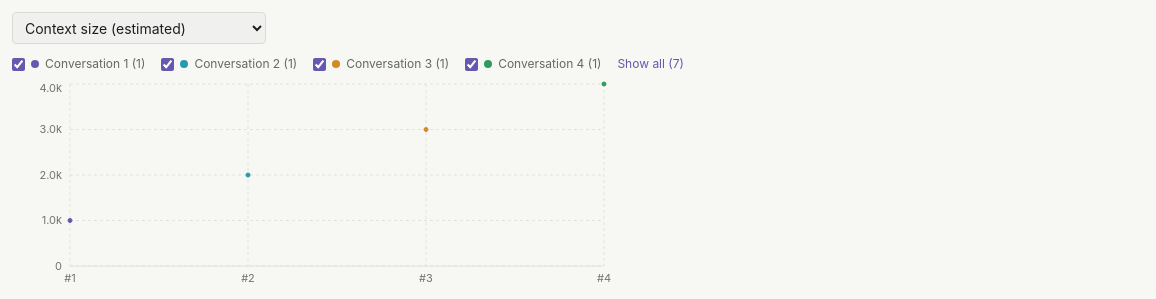
SessionTrendChart › legend of many conversations › keeps a drawn line in the legend after collapsing
This screenshot has width=1156, height=299.
Click the button "Show all (7)": (651, 64) [617,56,684,72]
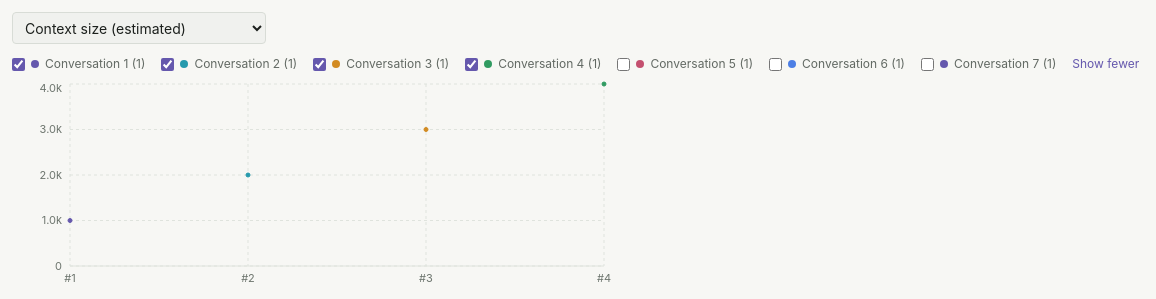
Click the checkbox labelled "Conversation 6 (1)": (776, 64) [769,58,782,70]
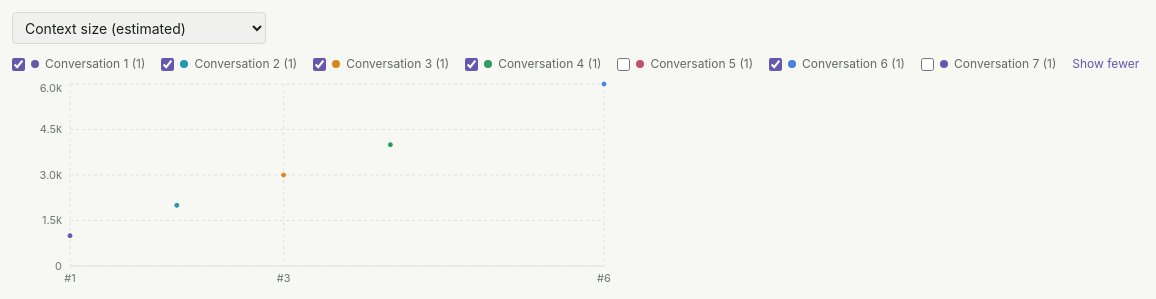
Click the button "Show fewer": (1106, 64) [1072,56,1139,72]
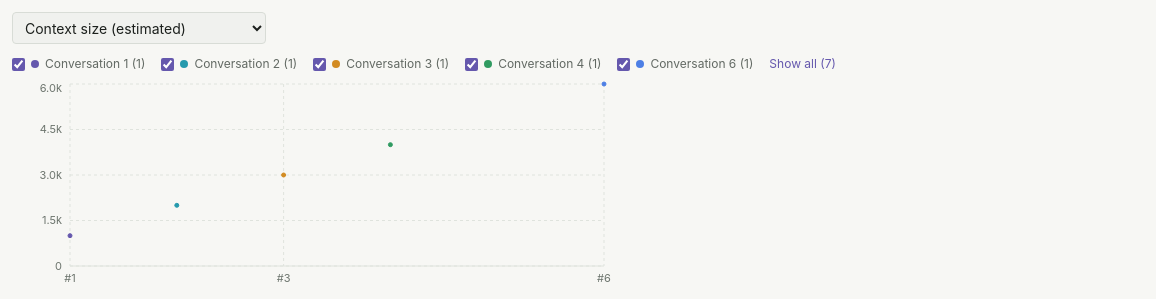
Result: the checkbox labelled "Conversation 6 (1)" is checked at [617,58,630,70]
Result: the number of checkboxes is 5 at [12,58,25,70]; [161,58,174,70]; [313,58,326,70]; [465,58,478,70]; [617,58,630,70]
